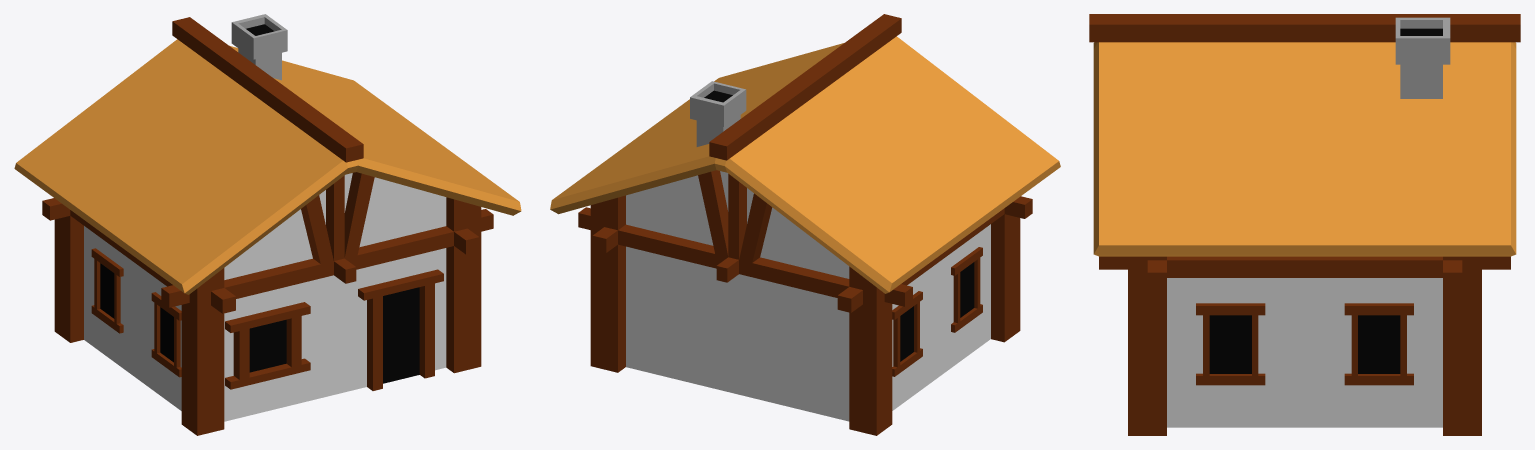
The model's file is house1.fbx.
3 views of the same model, side by side, from view 1: azimuth 30°, elevation 25°; view 2: azimuth 150°, elevation 25°; view 3: azimuth 270°, elevation 25° (orthographic). The views are drawn at different scales.
Parts seen in each view (by area): view 1: Cube.000; view 2: Cube.000; view 3: Cube.000.
Part boxes in pixels (<box>): Cube.000: <box>14,14,521,435</box>; Cube.000: <box>550,14,1060,435</box>; Cube.000: <box>1089,14,1520,435</box>.
Bounding box in the file's own units: 500 × 394 × 445.
